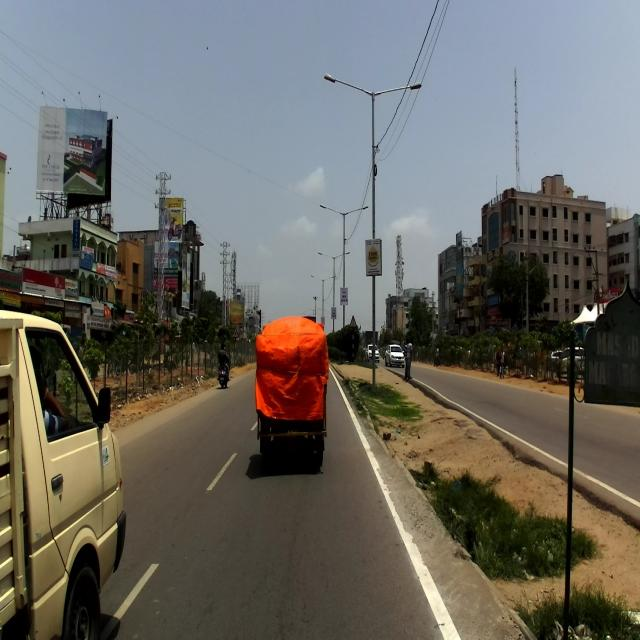autorickshaw: (254, 313, 330, 467)
truck: (0, 308, 126, 639)
